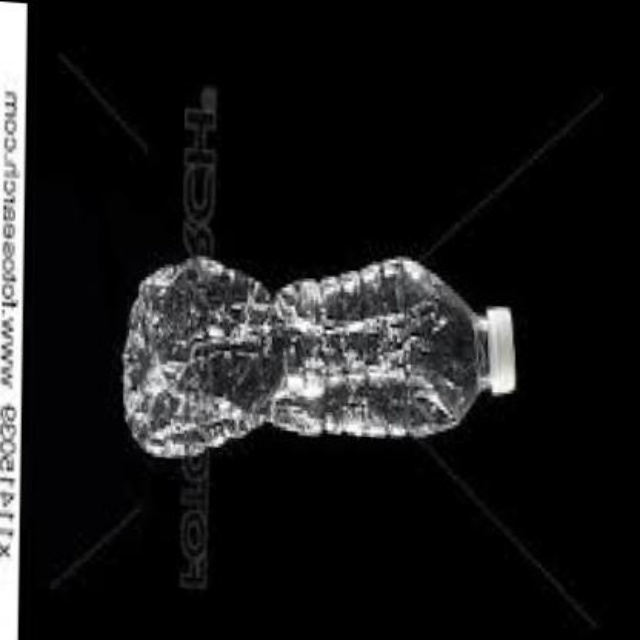trash: (123, 257, 512, 455)
